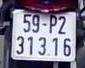1: (50, 36, 59, 58), (27, 35, 35, 56)
2: (58, 14, 67, 35)
3: (15, 35, 26, 55), (37, 35, 47, 56)
5: (22, 12, 32, 32)
6: (62, 36, 73, 58)
9: (32, 14, 41, 33)
P: (48, 14, 57, 34)
